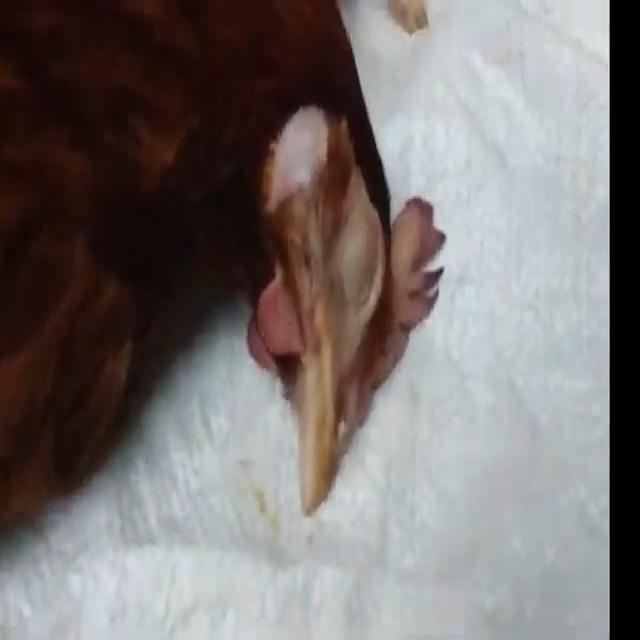dead: (0, 0, 450, 505)
